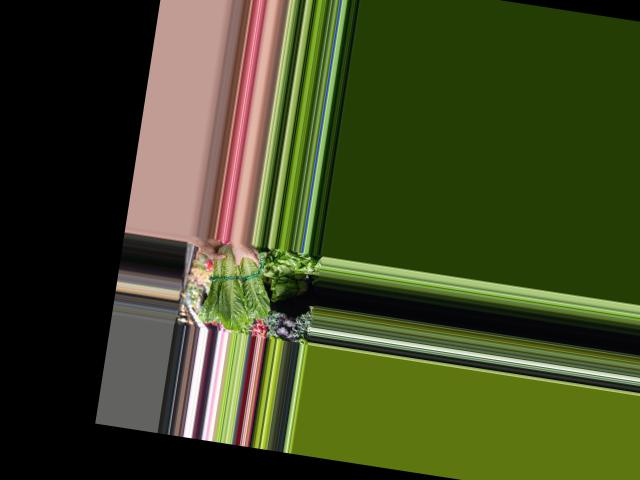lettuce: (200, 237, 280, 332)
